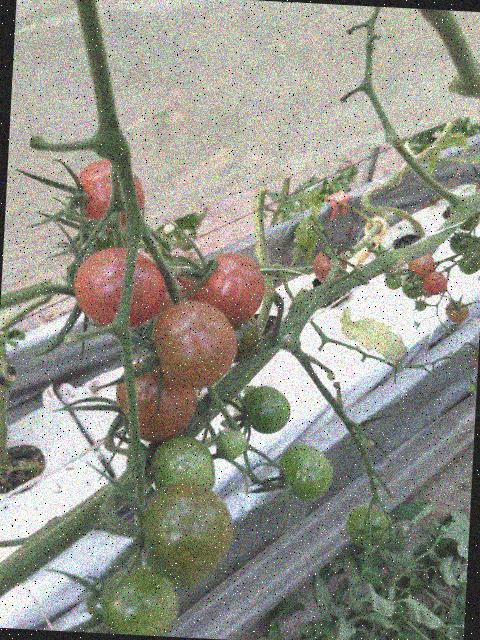l_fully_ripened: (72, 244, 167, 333), (74, 157, 147, 233), (194, 250, 267, 324), (421, 270, 449, 296)
l_green: (137, 480, 237, 584), (98, 563, 181, 637), (151, 434, 218, 496), (277, 442, 334, 502), (239, 385, 293, 436), (344, 504, 389, 550), (228, 313, 260, 364), (219, 429, 248, 461), (448, 231, 477, 256), (401, 273, 425, 300), (457, 253, 480, 276), (384, 272, 402, 290), (372, 245, 387, 258), (473, 235, 480, 261), (415, 299, 426, 312)
l_half_ripened: (149, 298, 240, 392), (113, 355, 200, 445), (312, 247, 348, 285), (407, 252, 435, 277), (445, 300, 470, 323), (470, 347, 479, 373)
